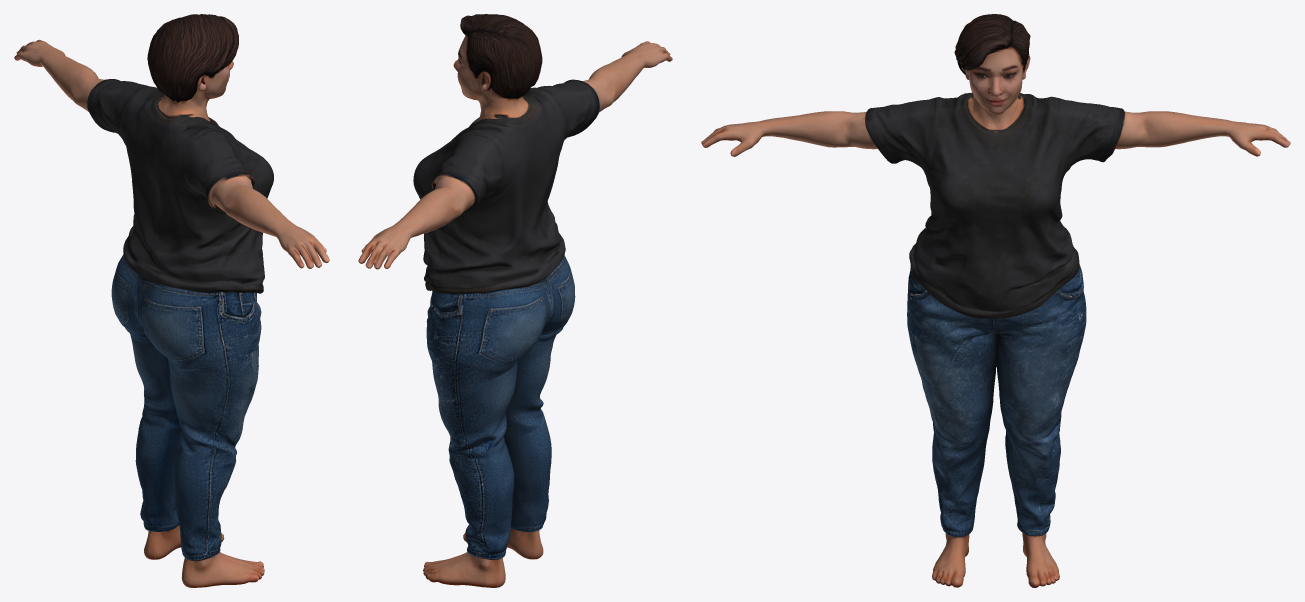
3 renders of one model, left to right at view 1: azimuth 30°, elevation 25°; view 2: azimuth 150°, elevation 25°; view 3: azimuth 270°, elevation 25°, orthographic.
Parts seen in each view (by area): view 1: tripo_node_726782cb-0ea1-4008-a201-9b2a750f62ea; view 2: tripo_node_726782cb-0ea1-4008-a201-9b2a750f62ea; view 3: tripo_node_726782cb-0ea1-4008-a201-9b2a750f62ea.
Boxes of the visible parts, x1,y1,x2,y2 form: tripo_node_726782cb-0ea1-4008-a201-9b2a750f62ea: (14, 14, 329, 587); tripo_node_726782cb-0ea1-4008-a201-9b2a750f62ea: (358, 14, 672, 587); tripo_node_726782cb-0ea1-4008-a201-9b2a750f62ea: (701, 14, 1290, 587).
Size of the model in its own units: 0.4022 by 1.75 by 1.71.
Materials: 1 (1 with a texture image).
